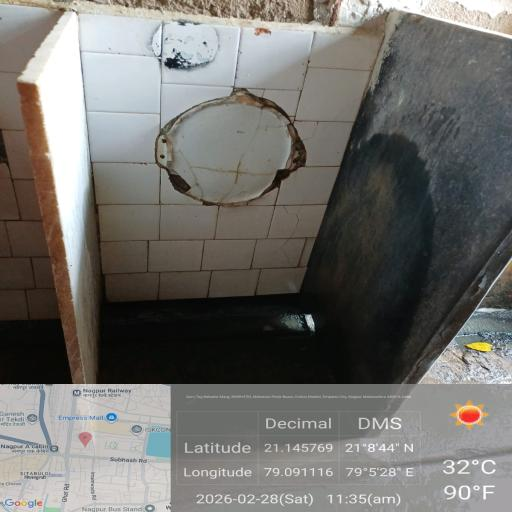damage: (132, 110, 337, 217)
dirty_floor: (34, 287, 453, 512)
